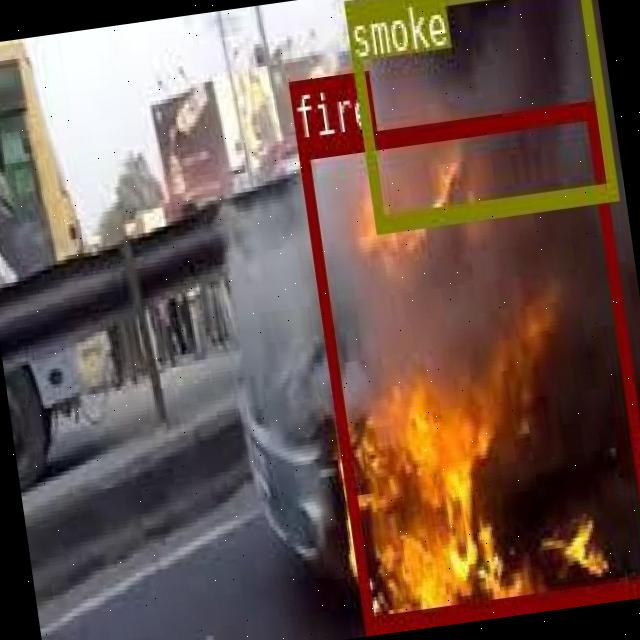fire: (294, 100, 640, 629)
smoke: (342, 0, 616, 229)
